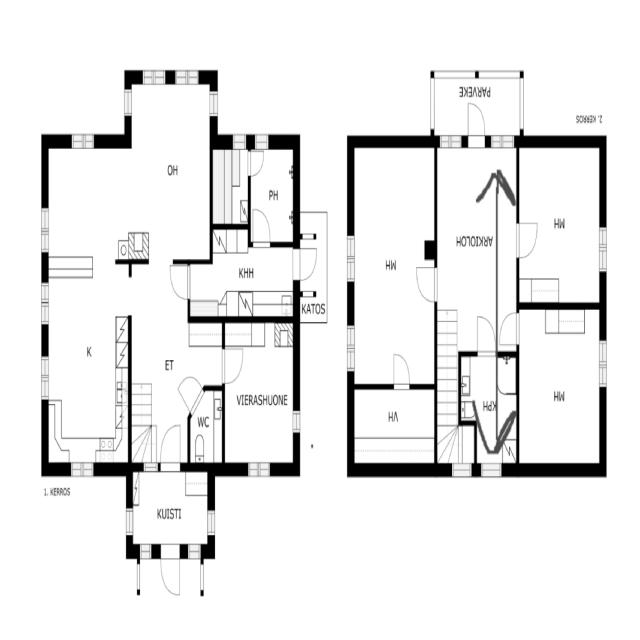door: (250, 144, 294, 248), (471, 307, 499, 362), (157, 419, 184, 475), (514, 213, 542, 266), (412, 258, 441, 308), (158, 545, 182, 603), (496, 306, 523, 353), (463, 100, 488, 150), (250, 200, 273, 250), (168, 258, 193, 304), (220, 343, 245, 388), (293, 240, 318, 285), (176, 374, 204, 413), (390, 346, 413, 391), (246, 142, 266, 182)
window: (33, 201, 54, 345), (35, 272, 53, 420), (139, 62, 206, 94), (342, 229, 359, 295), (136, 61, 171, 92), (343, 319, 359, 380), (37, 348, 53, 409), (66, 126, 100, 154), (170, 63, 204, 90), (596, 333, 610, 398), (37, 202, 52, 261), (596, 220, 610, 281), (38, 274, 52, 334), (67, 458, 99, 483), (243, 458, 276, 482), (487, 129, 518, 151), (436, 130, 466, 152), (448, 458, 474, 482), (478, 459, 505, 482), (207, 85, 220, 125), (122, 502, 134, 544), (290, 406, 304, 441), (122, 85, 135, 121), (253, 129, 272, 152), (206, 504, 217, 542), (230, 130, 249, 152), (139, 541, 153, 563), (142, 460, 160, 476)
zone: (352, 142, 436, 390), (45, 264, 131, 470), (436, 143, 511, 360), (129, 75, 212, 265), (517, 304, 603, 470), (516, 141, 603, 305), (45, 137, 139, 264), (223, 318, 297, 468), (348, 383, 439, 471), (129, 470, 211, 550), (460, 356, 519, 464), (250, 144, 296, 245), (212, 145, 249, 226), (190, 390, 223, 466)
